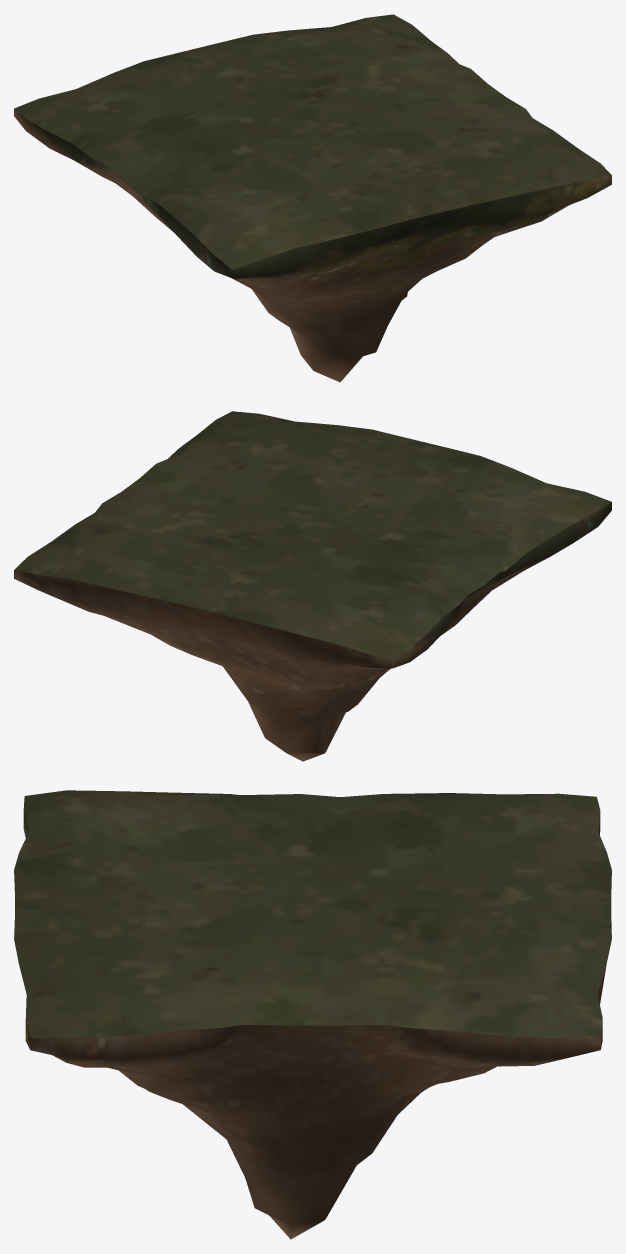
File: Flat.glb
3 renders of one model, top to bottom at view 1: azimuth 30°, elevation 25°; view 2: azimuth 150°, elevation 25°; view 3: azimuth 270°, elevation 25°, orthographic. The views are drawn at different scales.
Visible parts, largest first — view 1: FloatingIsland.glb; view 2: FloatingIsland.glb; view 3: FloatingIsland.glb.
Part boxes in pixels (box(x1,y1,x2,y2)): FloatingIsland.glb: box(14, 14, 611, 382); FloatingIsland.glb: box(14, 411, 611, 761); FloatingIsland.glb: box(14, 790, 611, 1239).
Size of the model in its own units: 21.02 by 13.11 by 21.63.
Materials: 1 (1 with a texture image).
